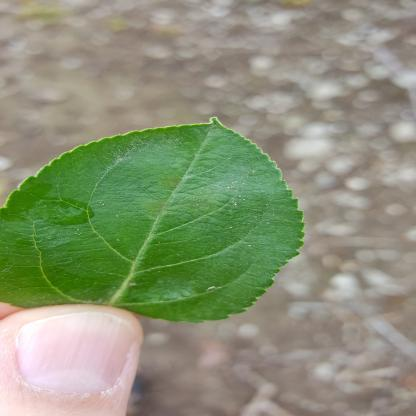Apple leaf: (2, 112, 309, 324)
